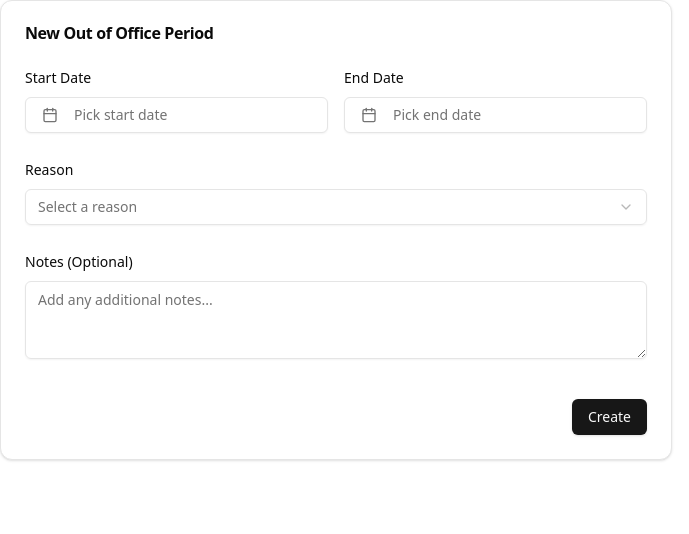
Test: OutOfOfficeForm › Form Validation › shows validation errors for invalid form data
The image size is (689, 534).
Click the button "Create".
click(609, 417)  # box [572,399,647,435]
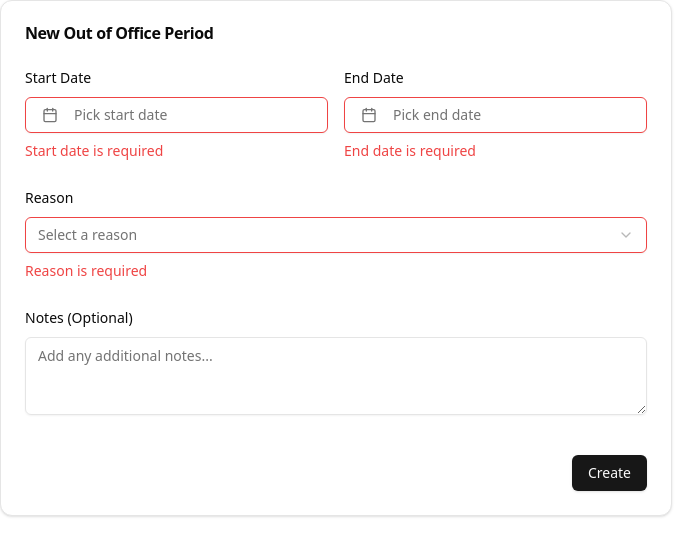
Check: the text "Start date is required" is shown, box [25,141,163,160]
Check: the text "End date is required" is shown, box [344,141,476,160]
Check: the text "Reason is required" is shown, box [25,261,147,280]
